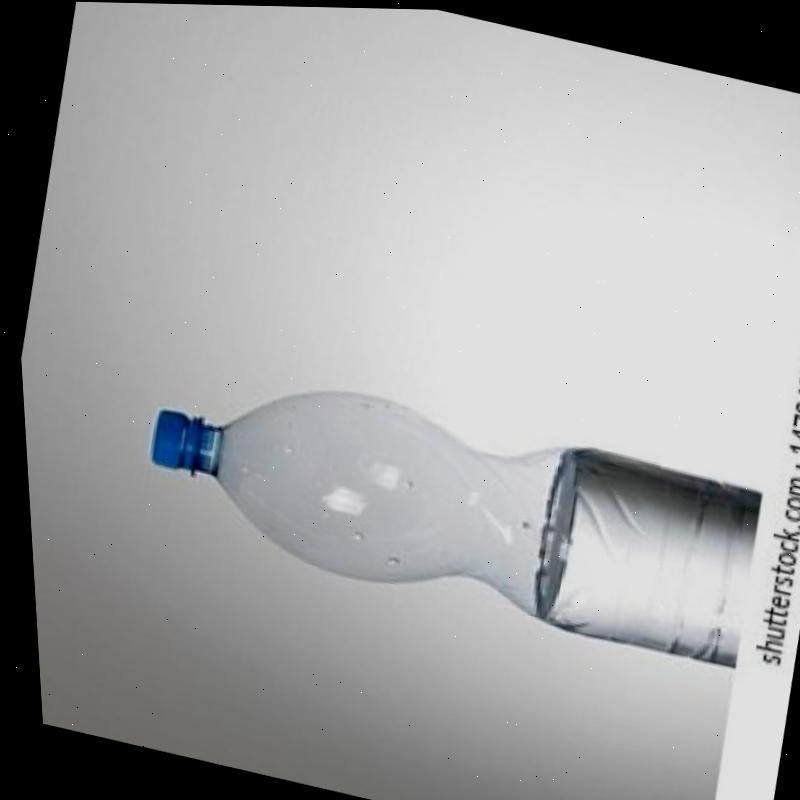botella: (124, 347, 768, 669)
